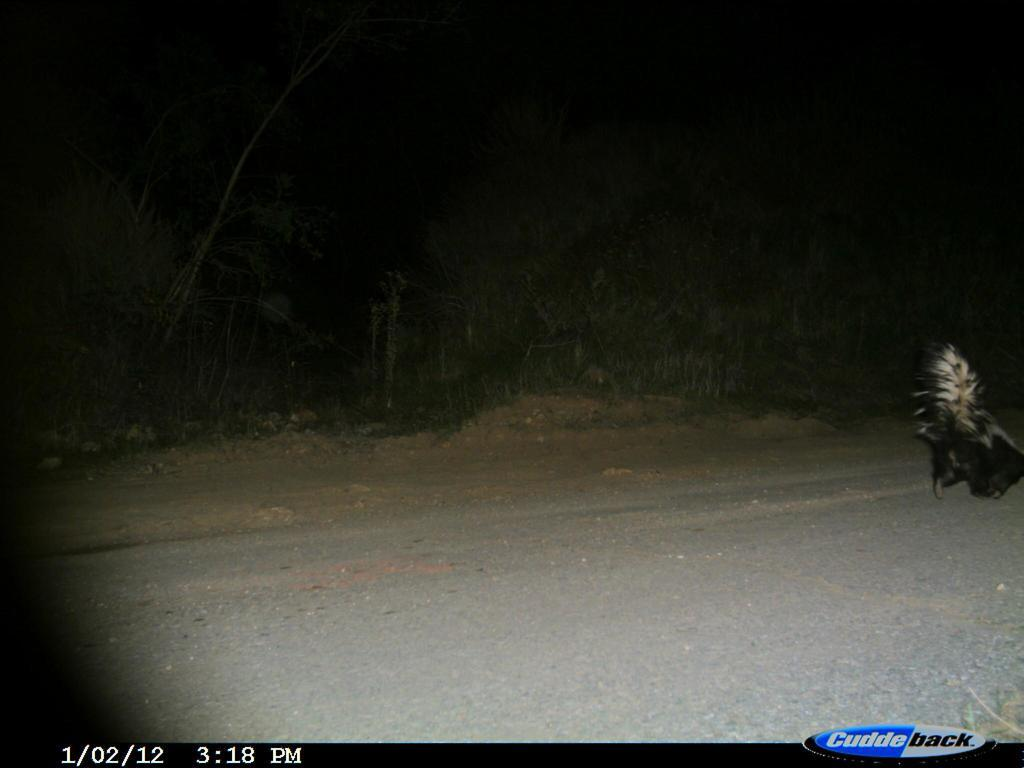skunk: (900, 332, 1023, 513)
